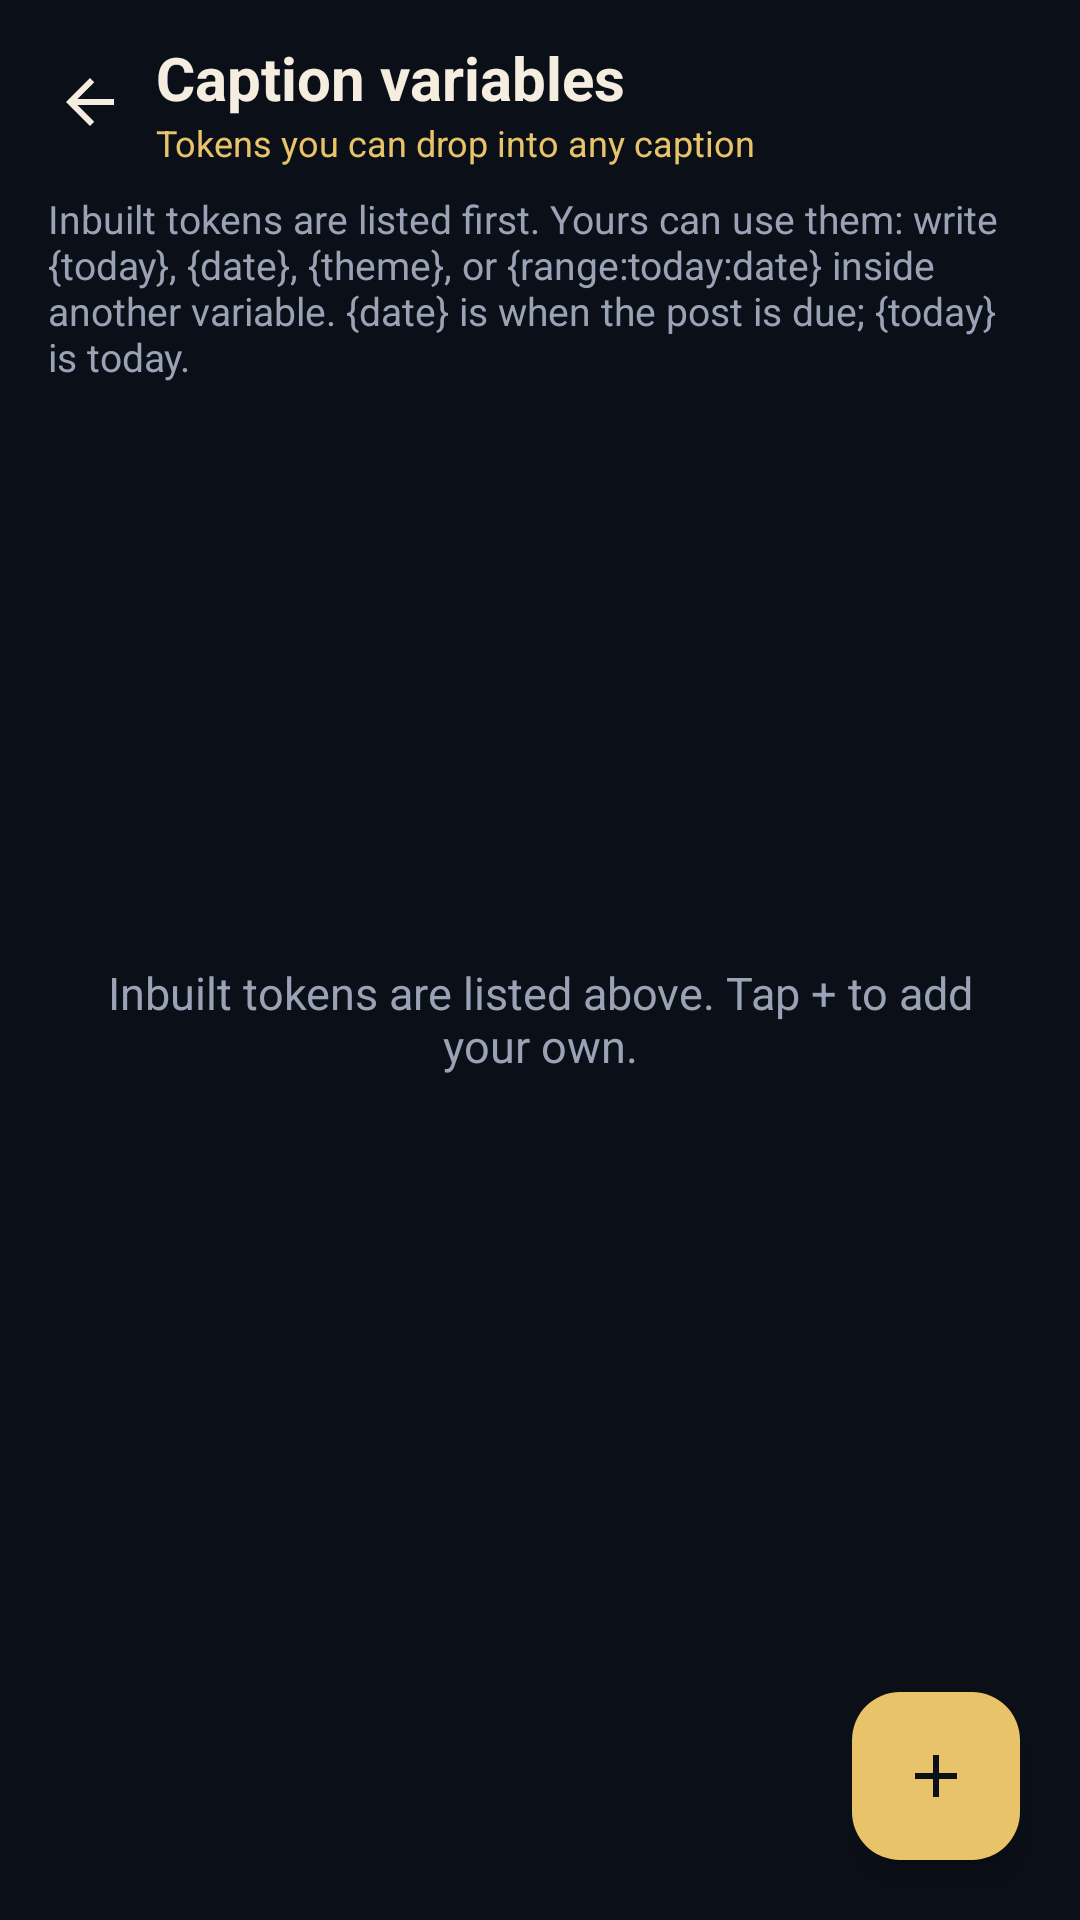

Screen size 1080w x 1920h. Icon name, then its center in pixels as [x,y]:
Back: [90,102]
New variable: [936,1776]
